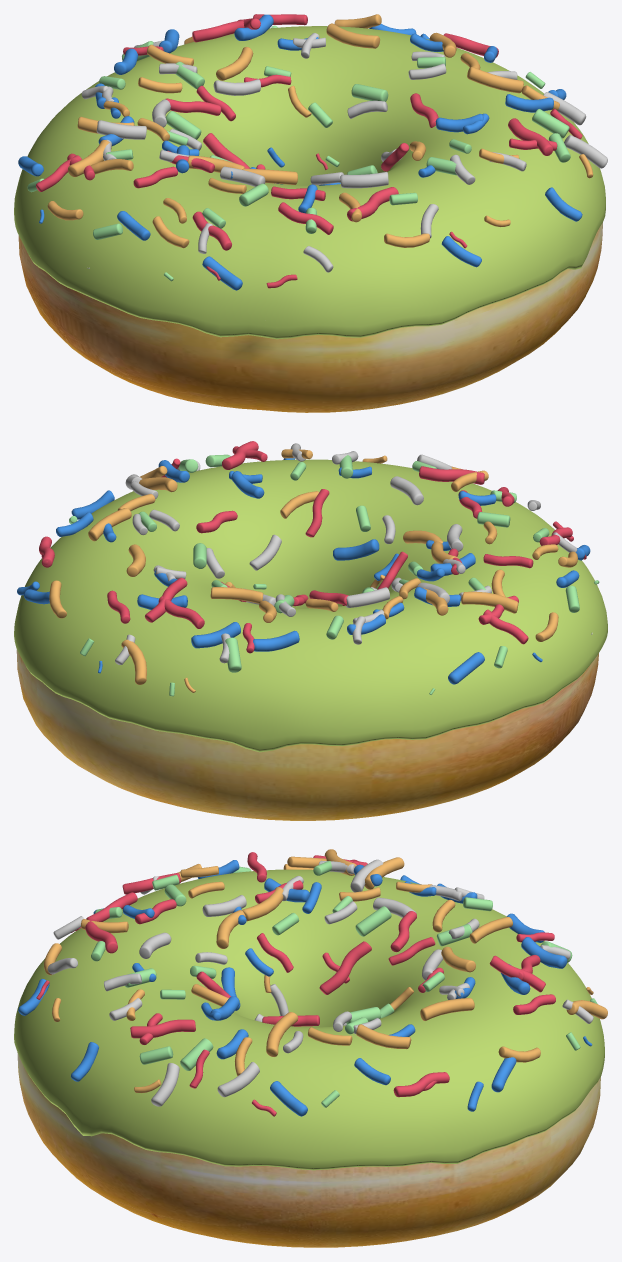
Rendered from pistachio Rainbow vermicheli.glb.
3 views of the same model, one above another, from view 1: azimuth 30°, elevation 25°; view 2: azimuth 150°, elevation 25°; view 3: azimuth 270°, elevation 25° (orthographic). The views are drawn at different scales.
Parts seen in each view (by area): view 1: chocolate, rainbow, Torus; view 2: chocolate, Torus, rainbow; view 3: chocolate, rainbow, Torus.
Part boxes in pixels (x1,y1,x2,y2): chocolate: (14, 26, 605, 339); rainbow: (18, 14, 607, 290); Torus: (18, 222, 602, 412); chocolate: (14, 459, 607, 752); Torus: (16, 649, 598, 820); rainbow: (17, 441, 599, 696); chocolate: (14, 869, 604, 1170); rainbow: (18, 849, 607, 1116); Torus: (17, 1052, 600, 1247).
Size of the model in its own units: 0.1988 by 0.0811 by 0.198.
Materials: 7 (1 with a texture image).
